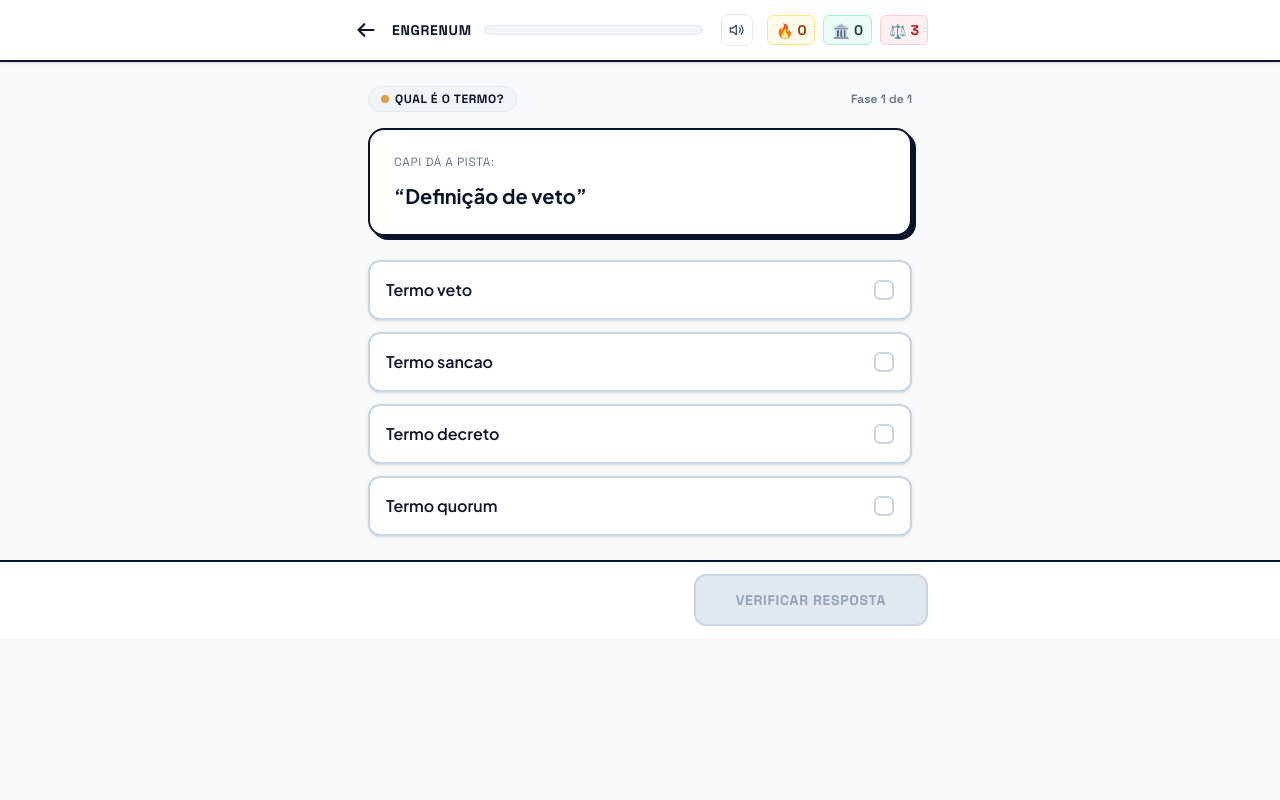
it: EngrenumQuiz › mixed mechanics › plays a glossary clue as a pick-the-term question
Expected: the text "Qual é o termo?" is shown, [368,86,517,112]
Expected: the text "Capi dá a pista:" is shown, [394,154,494,170]
What coordinates should you click on to do the following:
click the button "Termo veto"
I would click on:
 (429, 289)
Its box is [368,260,912,320].
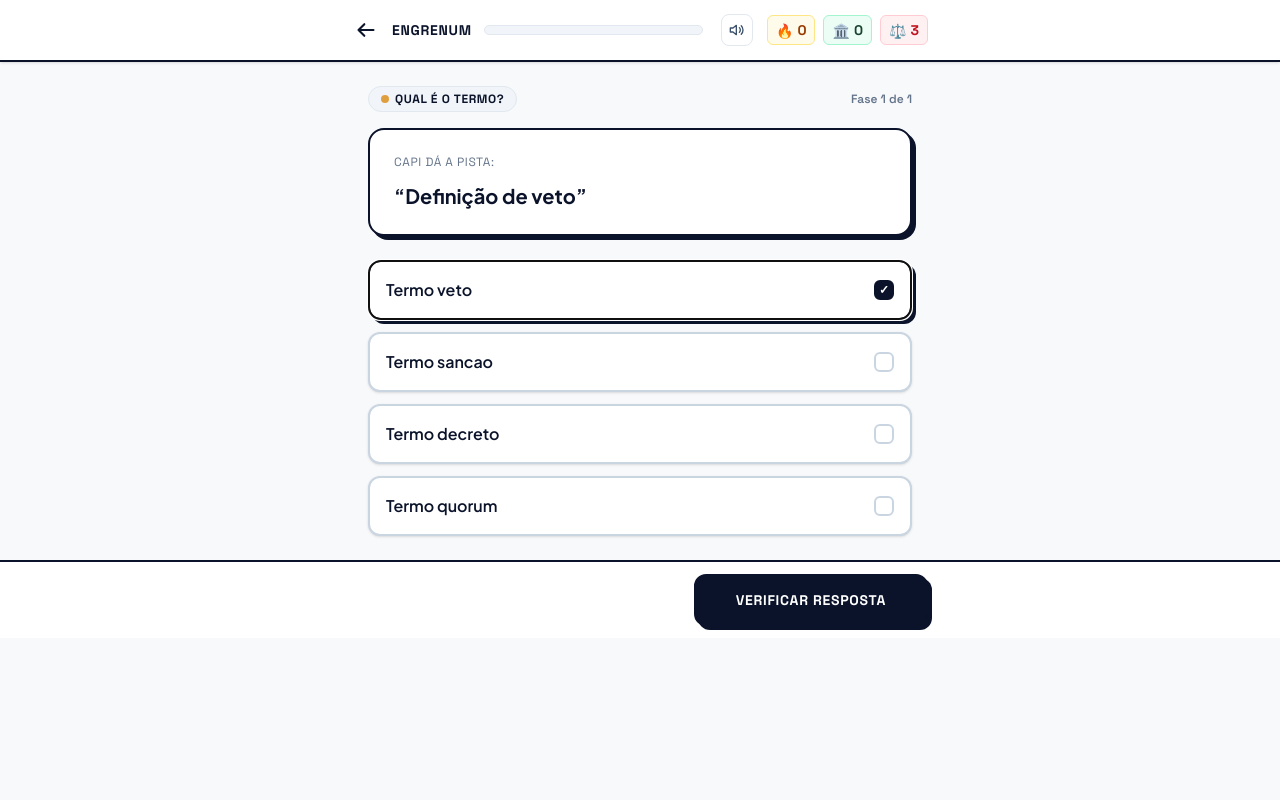
What coordinates should you click on to do the following:
click the button "Verificar Resposta"
I would click on:
 (811, 600)
Its box is [694,574,928,626].
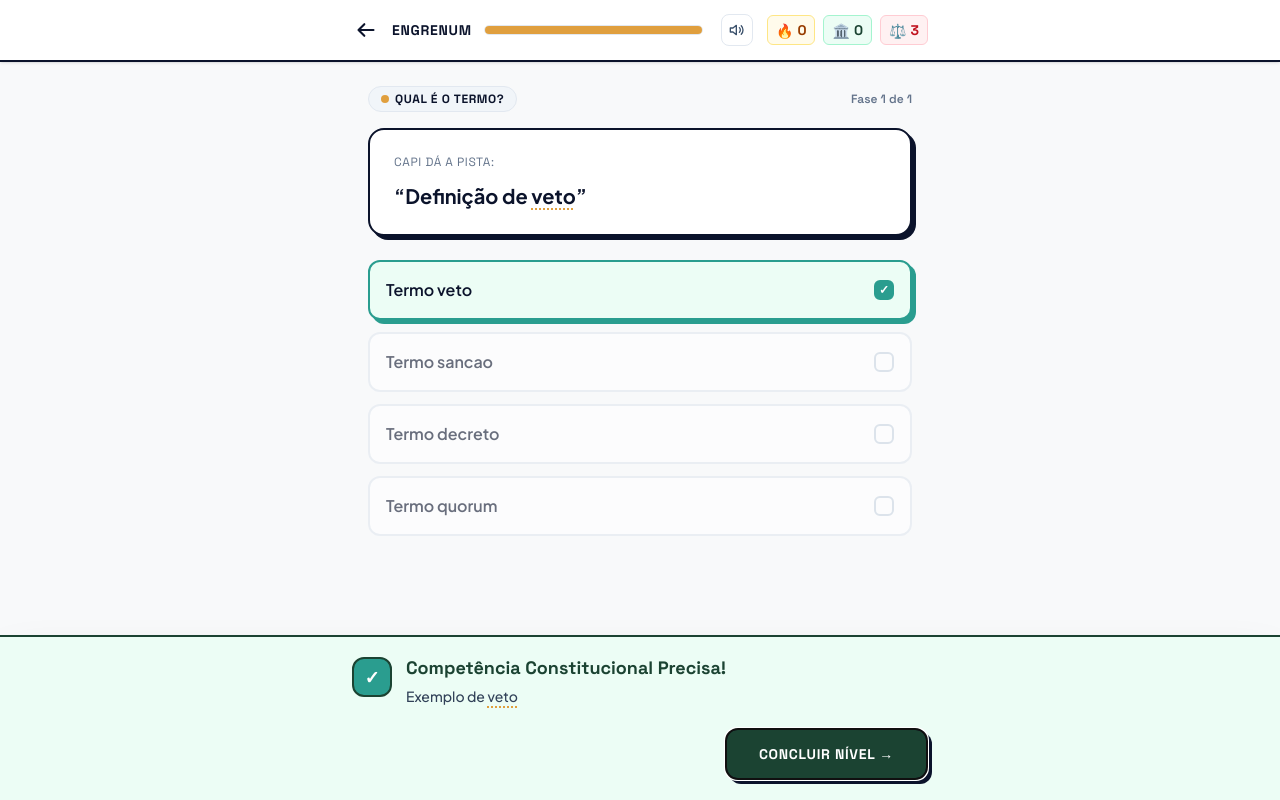
Expected: the message does not show "CF/88", [0,635,1279,799]
Expected: the message shows "Competência Constitucional Precisa!", [406,656,726,679]
Expected: the message shows "Exemplo de veto", [0,635,1279,799]
